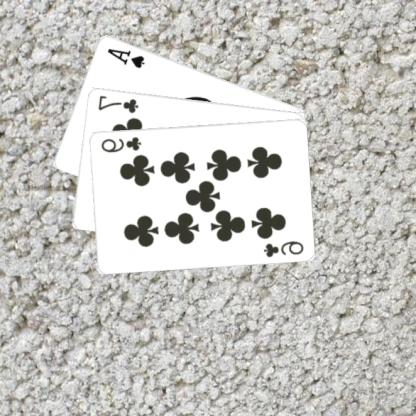7C: (97, 92, 141, 114)
9C: (262, 238, 307, 258), (100, 134, 144, 154)
AS: (106, 45, 148, 69)
